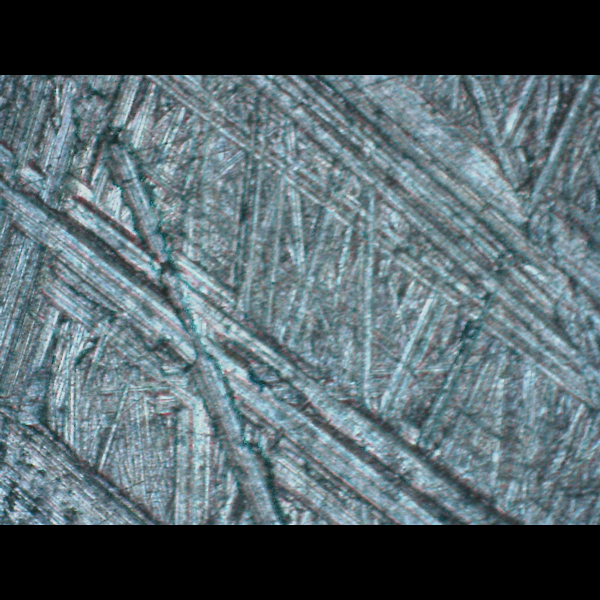d: (0, 181, 553, 524), (151, 74, 599, 418), (0, 392, 164, 524)
